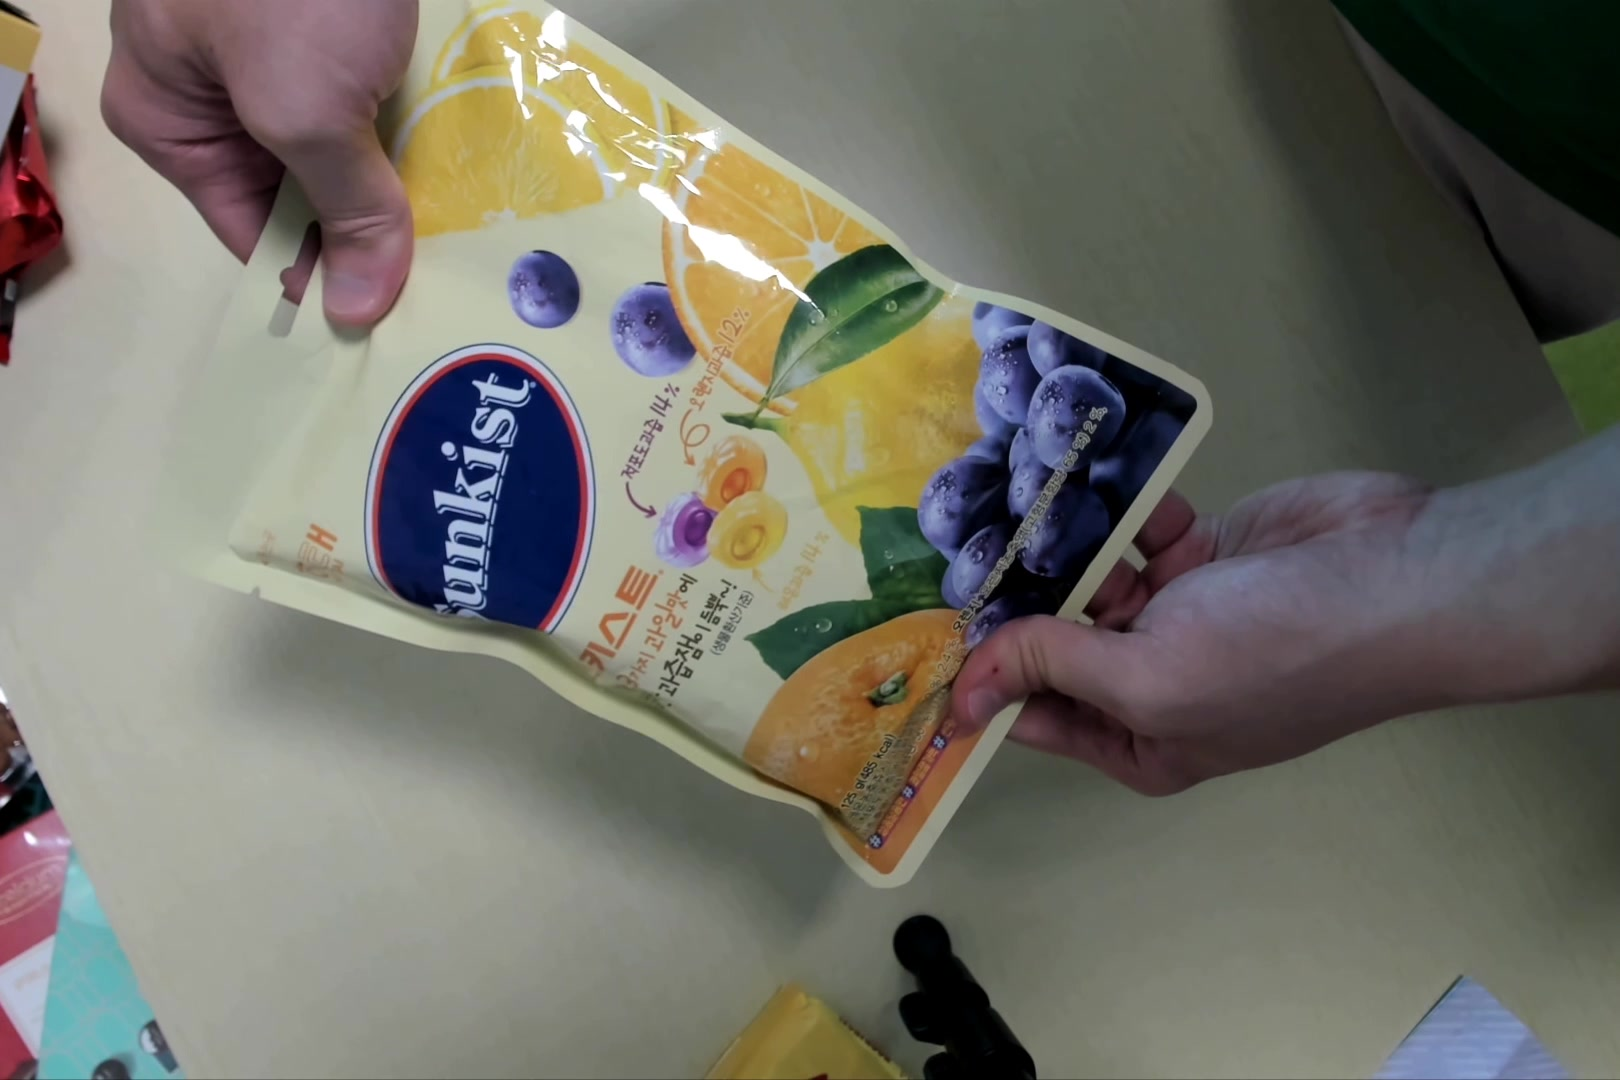SweetsChocolatesOthers_100-199g_NonHalal_NonHealthy: (168, 5, 1213, 884)
